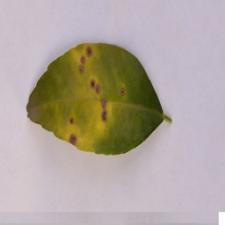Canker: (54, 44, 146, 148)
